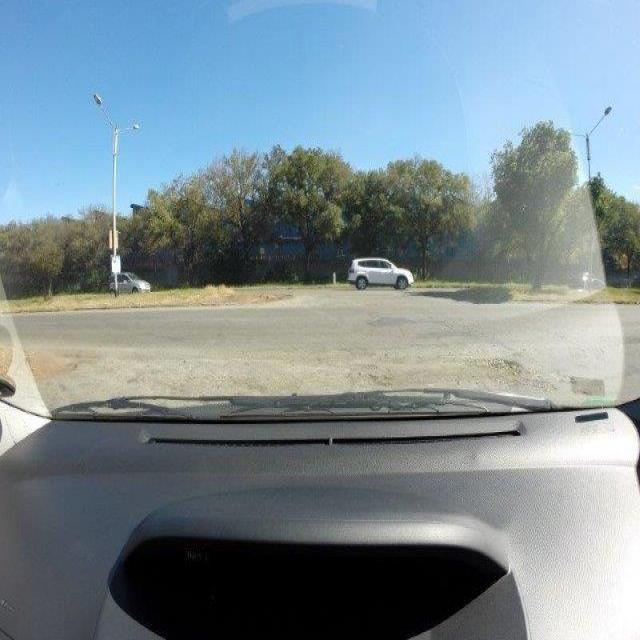lubang: (485, 352, 523, 389)
